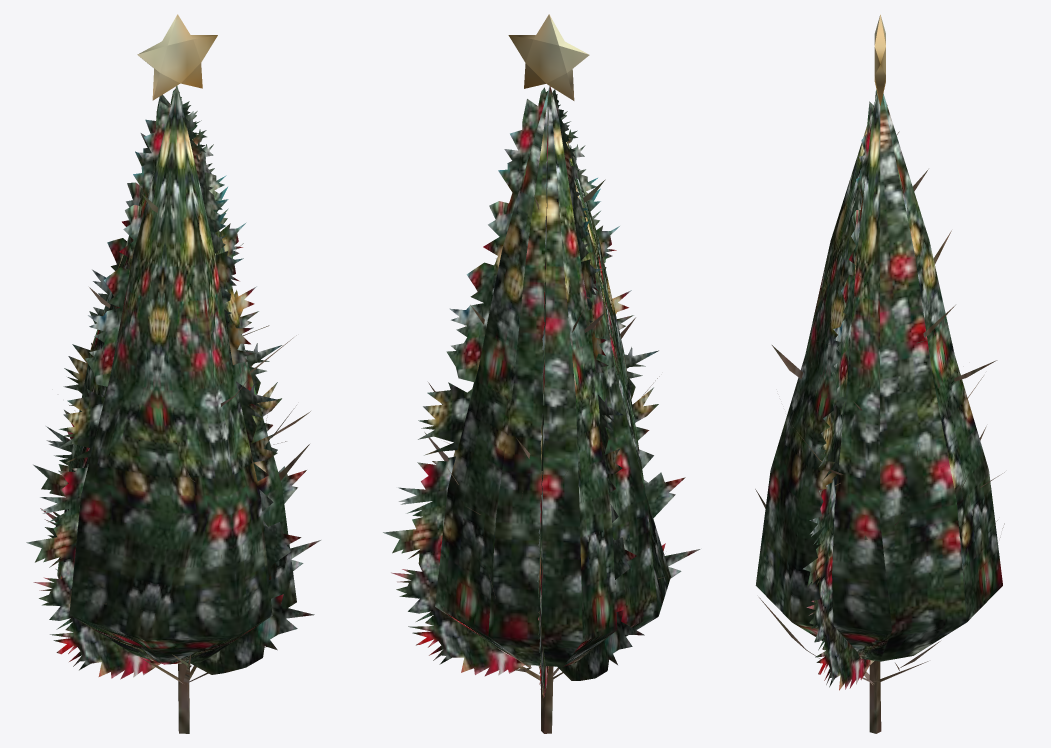
Rendered from cay-thong-02.glb.
3 renders of one model, left to right at view 1: azimuth 30°, elevation 25°; view 2: azimuth 150°, elevation 25°; view 3: azimuth 270°, elevation 25°, orthographic.
Parts seen in each view (by area): view 1: CayThong02; view 2: CayThong02; view 3: CayThong02.
Boxes of the visible parts, x1,y1,x2,y2 form: CayThong02: (26,14,320,733); CayThong02: (383,14,700,733); CayThong02: (755,14,1004,733).
Size of the model in its own units: 2.05 by 4.75 by 1.85.
Materials: 1 (1 with a texture image).
